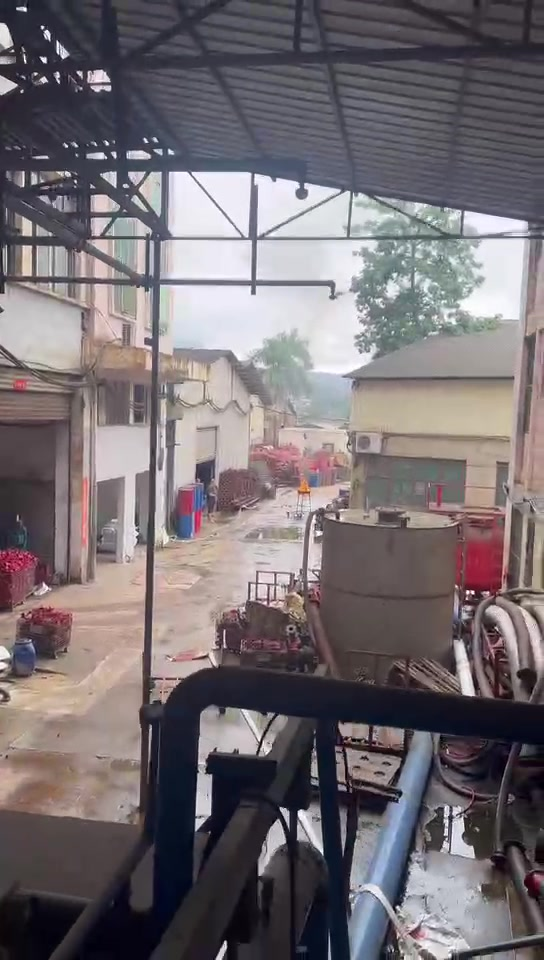fire: (299, 477, 309, 491)
